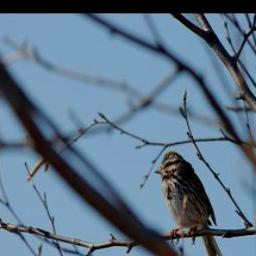Sparrow: (155, 147, 233, 256)
